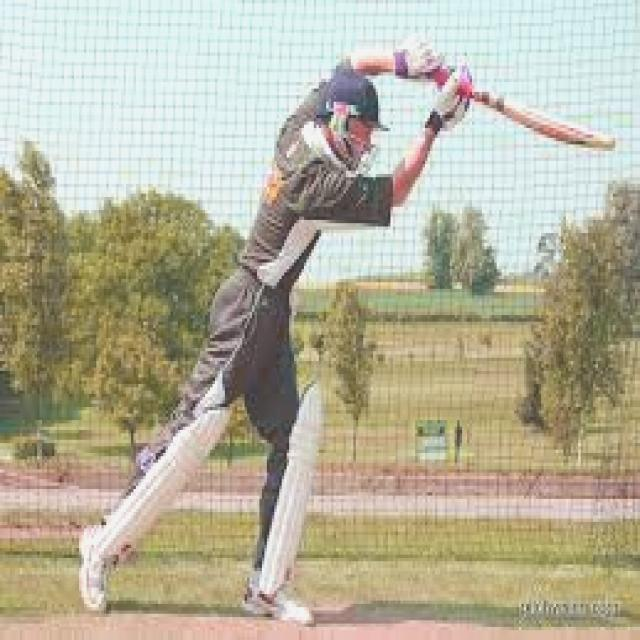toe: (566, 123, 620, 168)
